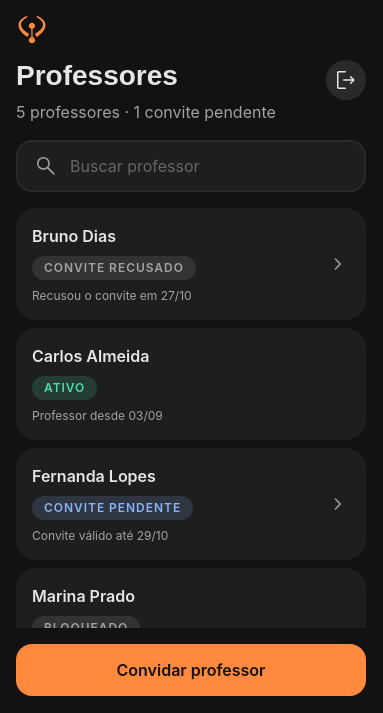
it: Lista de professores (regras 92, 102 e 114) › busca por nome e mostra a contagem de resultados
Type "mar" into the search field labelled "Buscar professor" at (209, 166), box [70, 142, 348, 190]
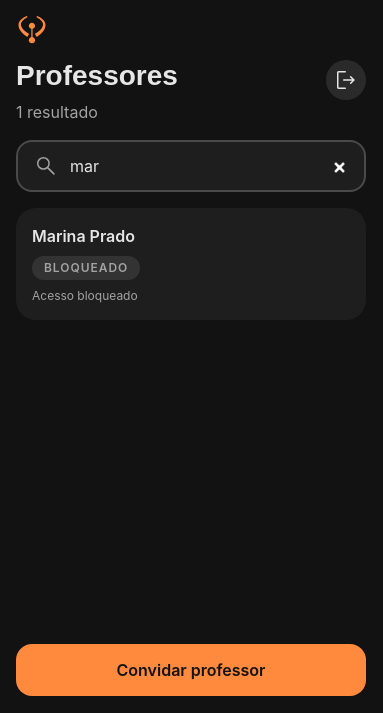
Expected: the text "Marina Prado" is shown, [32, 226, 135, 246]
Expected: the text "1 resultado" is shown, [16, 102, 98, 122]
Expected: the number of list items is 1, [16, 208, 366, 320]
